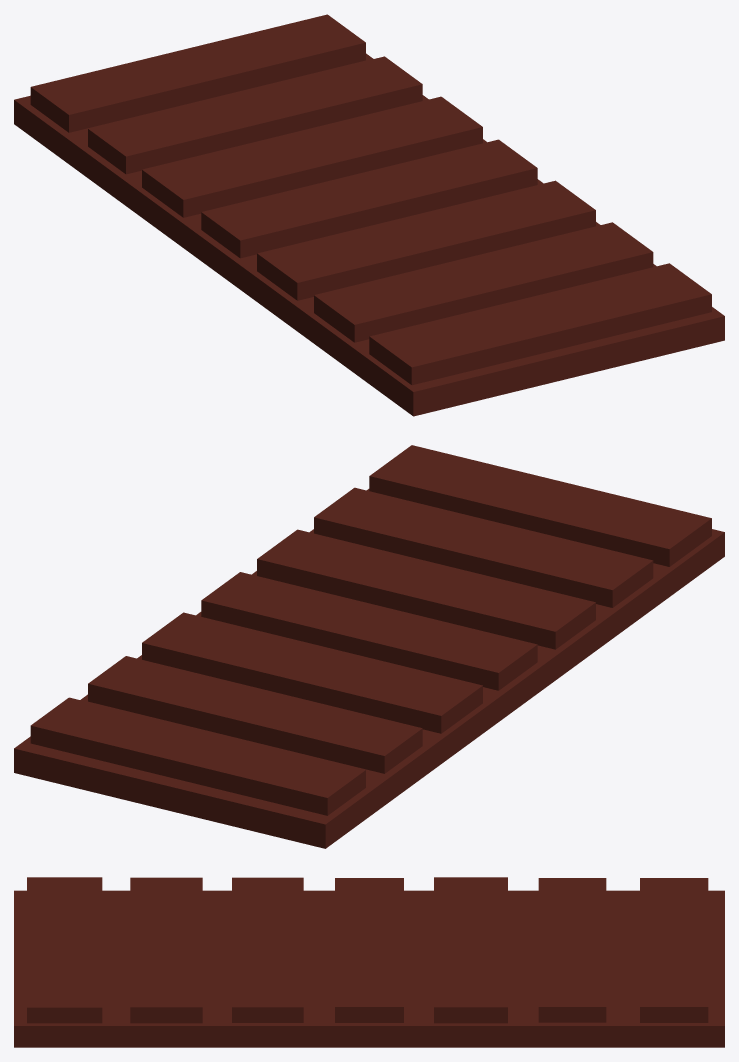
The model's file is choco.fbx.
3 views of the same model, one above another, from view 1: azimuth 30°, elevation 25°; view 2: azimuth 150°, elevation 25°; view 3: azimuth 270°, elevation 25° (orthographic). The views are drawn at different scales.
Visible parts, largest first — view 1: Cube; view 2: Cube; view 3: Cube.
Part boxes in pixels (<box>): Cube: <box>14,14,724,416</box>; Cube: <box>14,445,724,848</box>; Cube: <box>14,877,724,1047</box>.
Size of the model in its own units: 200 by 25.95 by 444.
